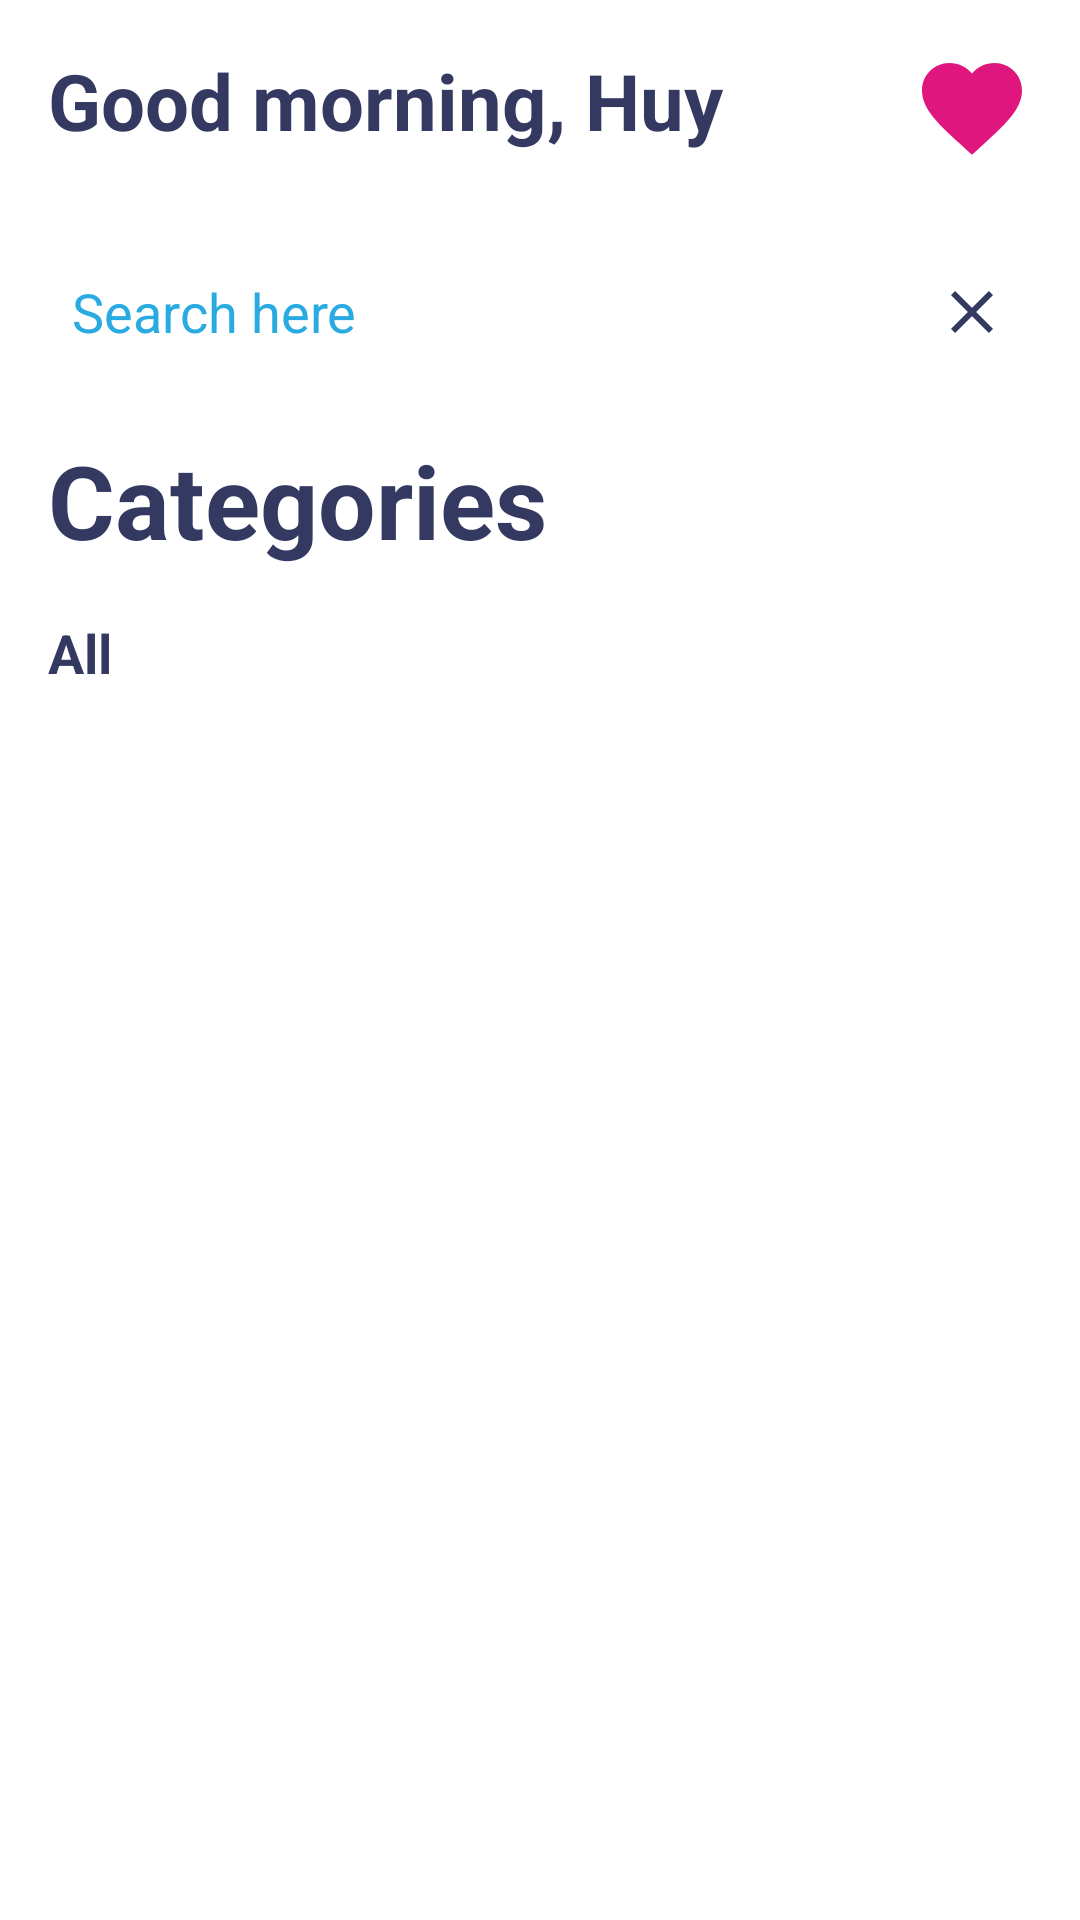

Icon bounding boxes for this 1080w x 1920h phone screenshot, format (x1, y1, x2, y2):
clear: (951, 291, 993, 333)
heart: (922, 63, 1022, 155)
